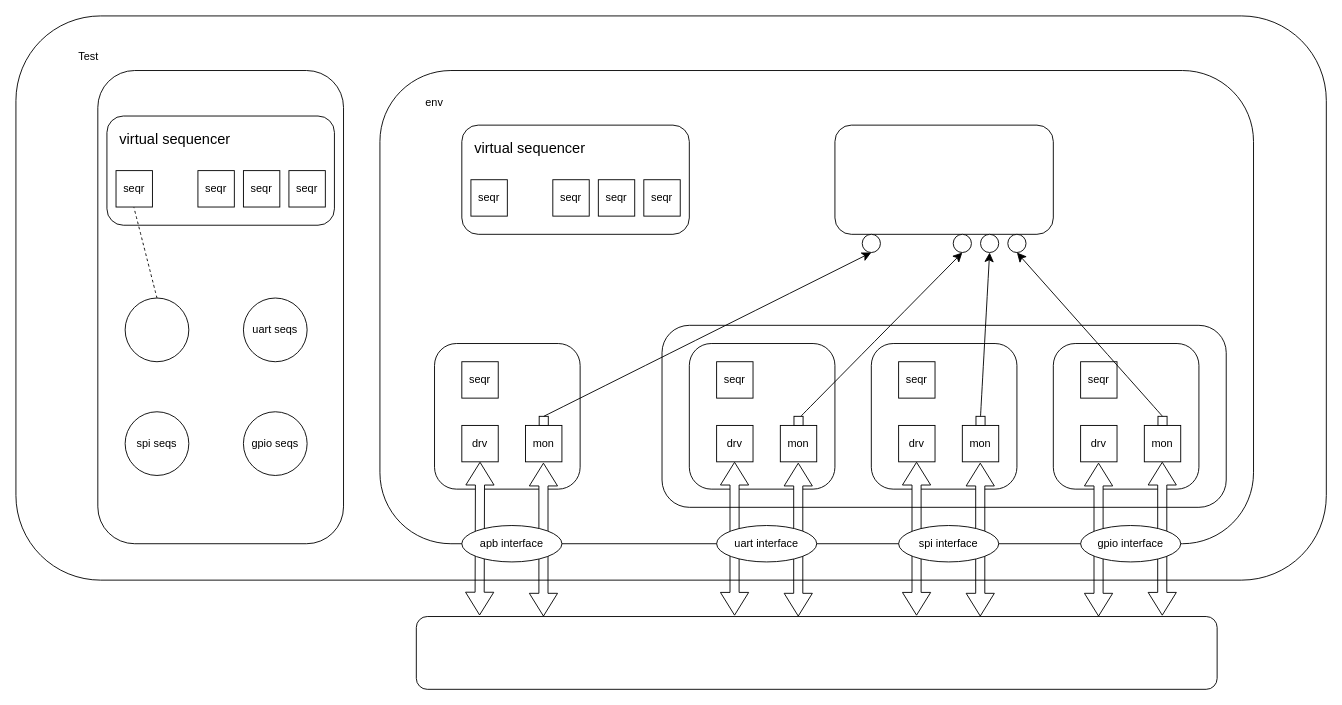
Some shapes in this 1342 by 705 pixel diagram are drawn without their labels. The centre of each missing label's shape, as x and y in pixels:
apb seqs: the point at 156,329
DUT: the point at 816,652
scoreboard: the point at 943,179
